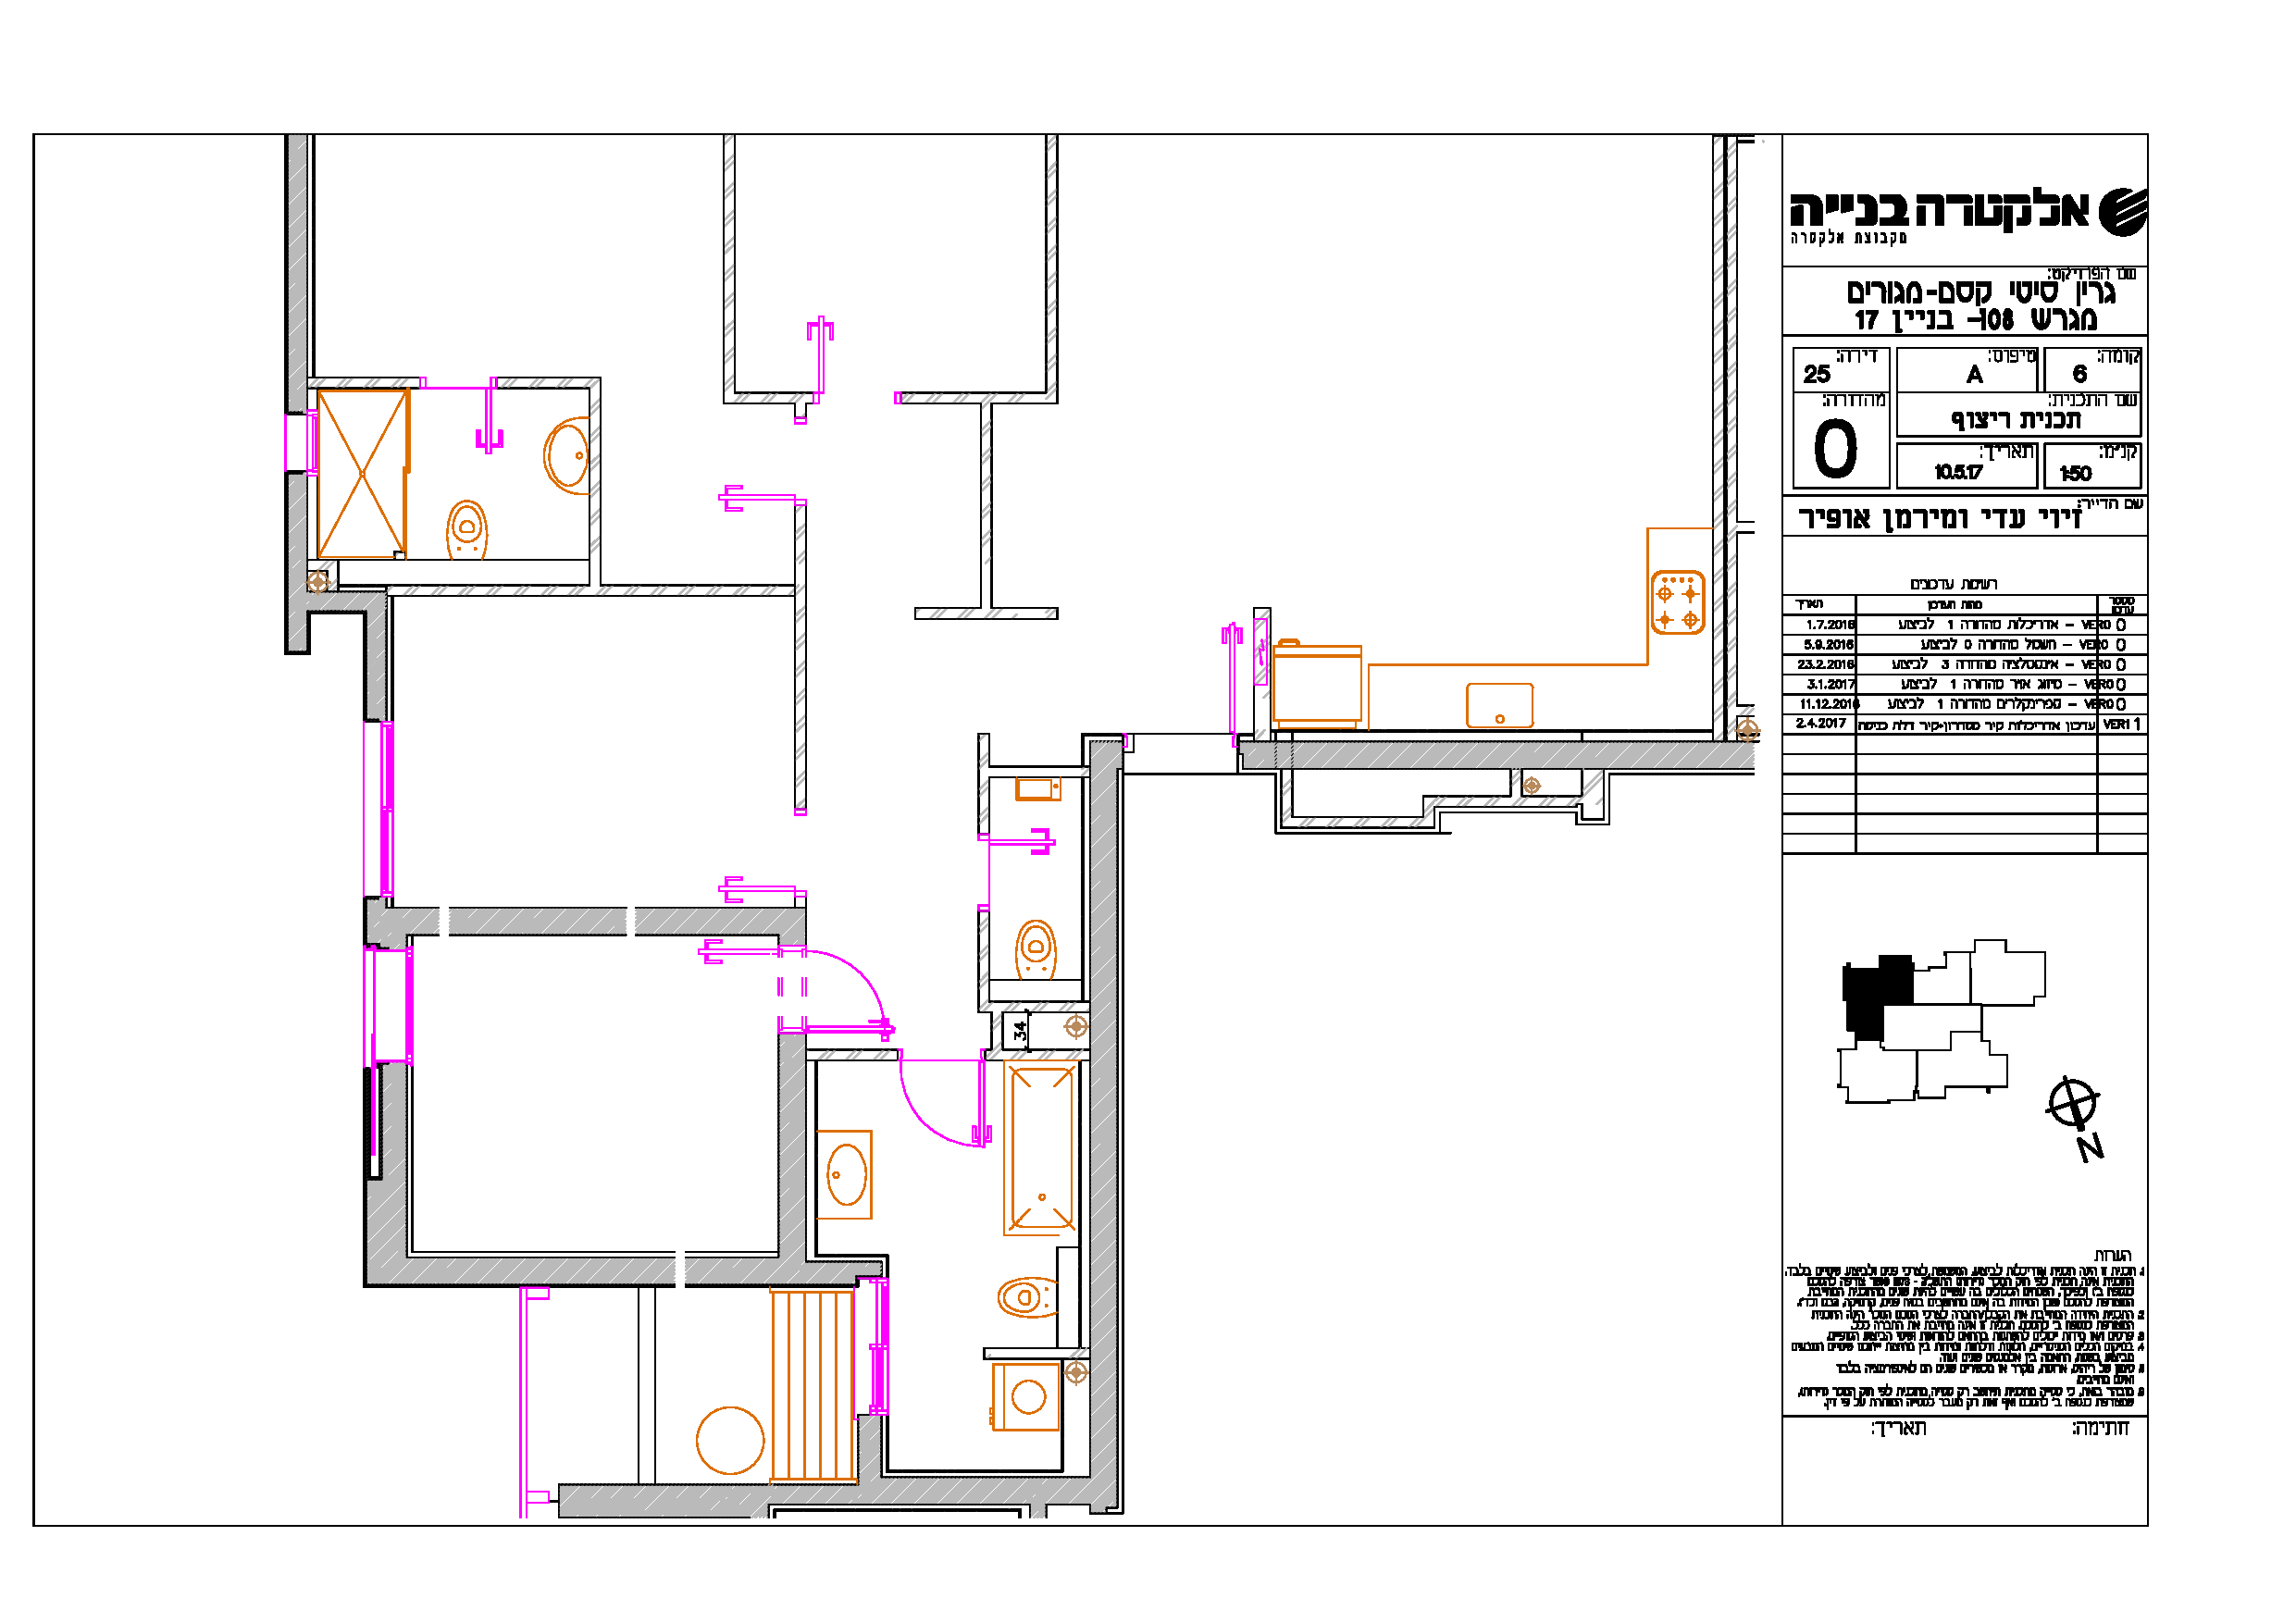door: (889, 1066, 991, 1159), (815, 947, 891, 1017)
wall: (1091, 741, 1126, 1514), (369, 1254, 676, 1289), (1244, 745, 1753, 764), (778, 1482, 1086, 1511), (557, 1482, 766, 1518), (778, 1031, 805, 1279), (288, 141, 309, 400), (632, 910, 799, 938), (453, 910, 625, 931), (288, 469, 306, 653), (365, 592, 385, 725), (374, 1184, 411, 1244), (692, 1261, 785, 1279), (383, 1066, 399, 1168)
